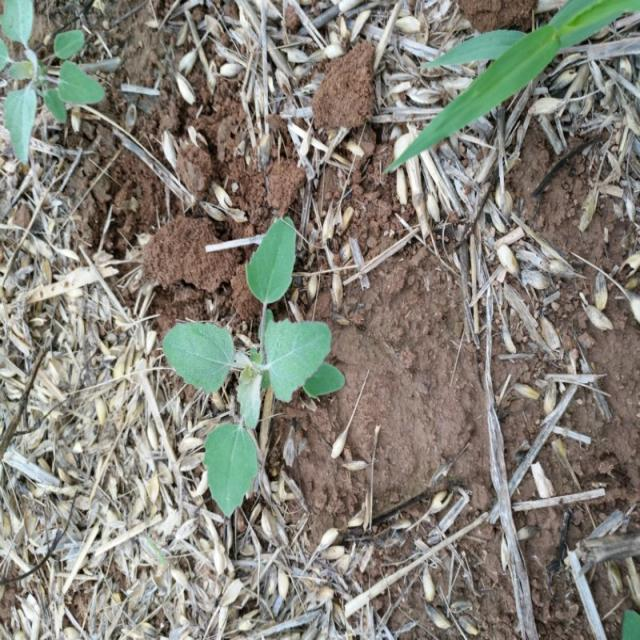goosefoots: (150, 234, 354, 491)
